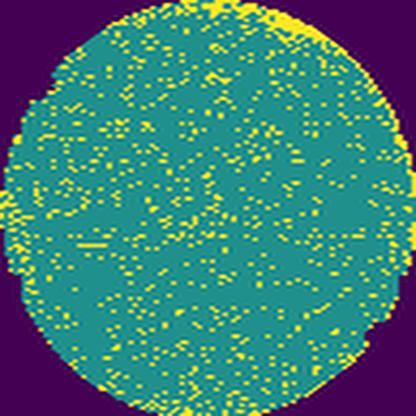Edge-Loc: (160, 0, 349, 56)
